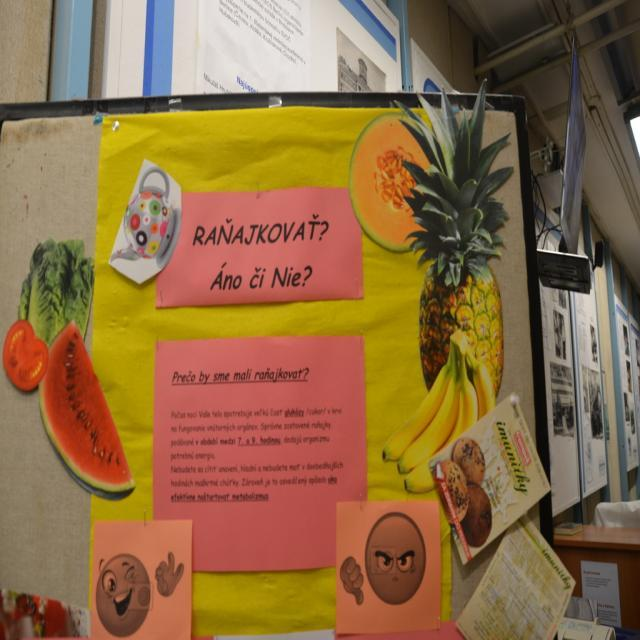Pineapple: (394, 88, 514, 450)
